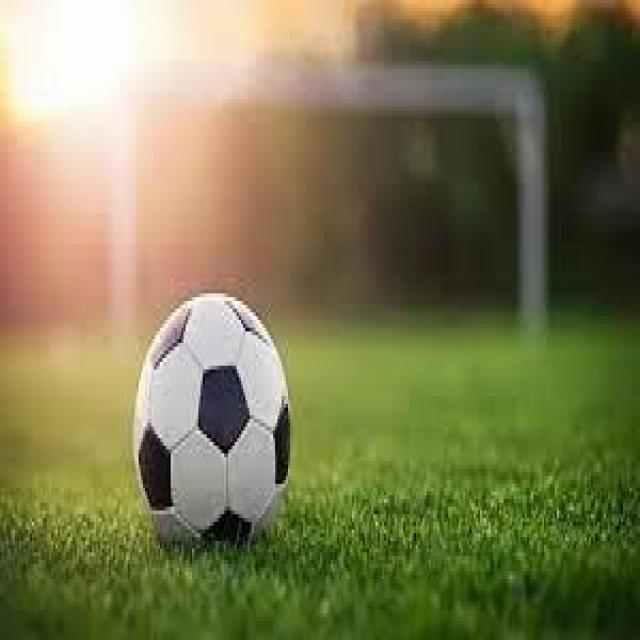ball: (136, 290, 296, 548)
